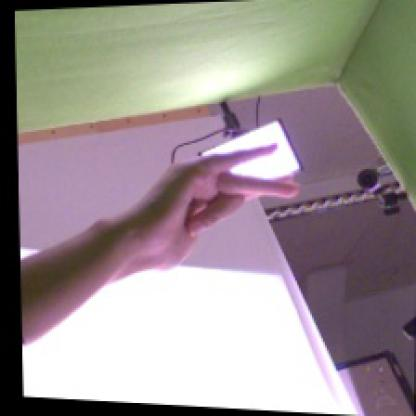Hand: (130, 143, 302, 272)
